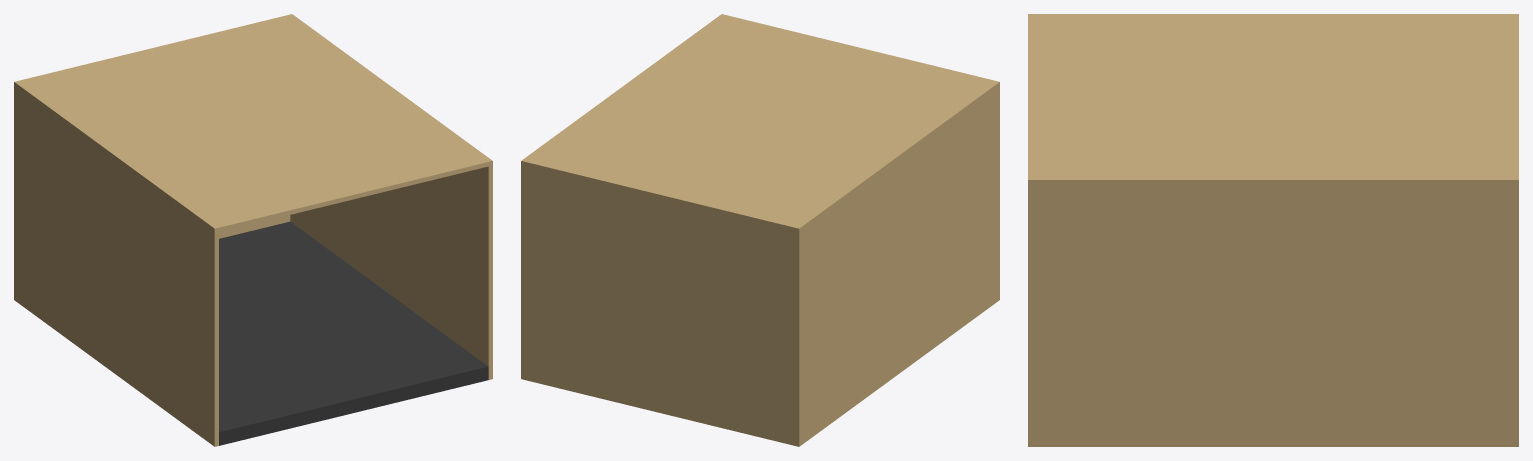
Rendered from StoreBuilding_Stepped.obj.
3 views of the same model, side by side, from view 1: azimuth 30°, elevation 25°; view 2: azimuth 150°, elevation 25°; view 3: azimuth 270°, elevation 25° (orthographic). The views are drawn at different scales.
Parts seen in each view (by area): view 1: StoreBuilding_Stepped; view 2: StoreBuilding_Stepped; view 3: StoreBuilding_Stepped.
Boxes of the visible parts, bbox=[...] form: StoreBuilding_Stepped: bbox=[14, 14, 492, 446]; StoreBuilding_Stepped: bbox=[521, 14, 999, 446]; StoreBuilding_Stepped: bbox=[1028, 14, 1518, 446].
Size of the model in its own units: 64 by 48 by 80.
1 material, 1 textured.
